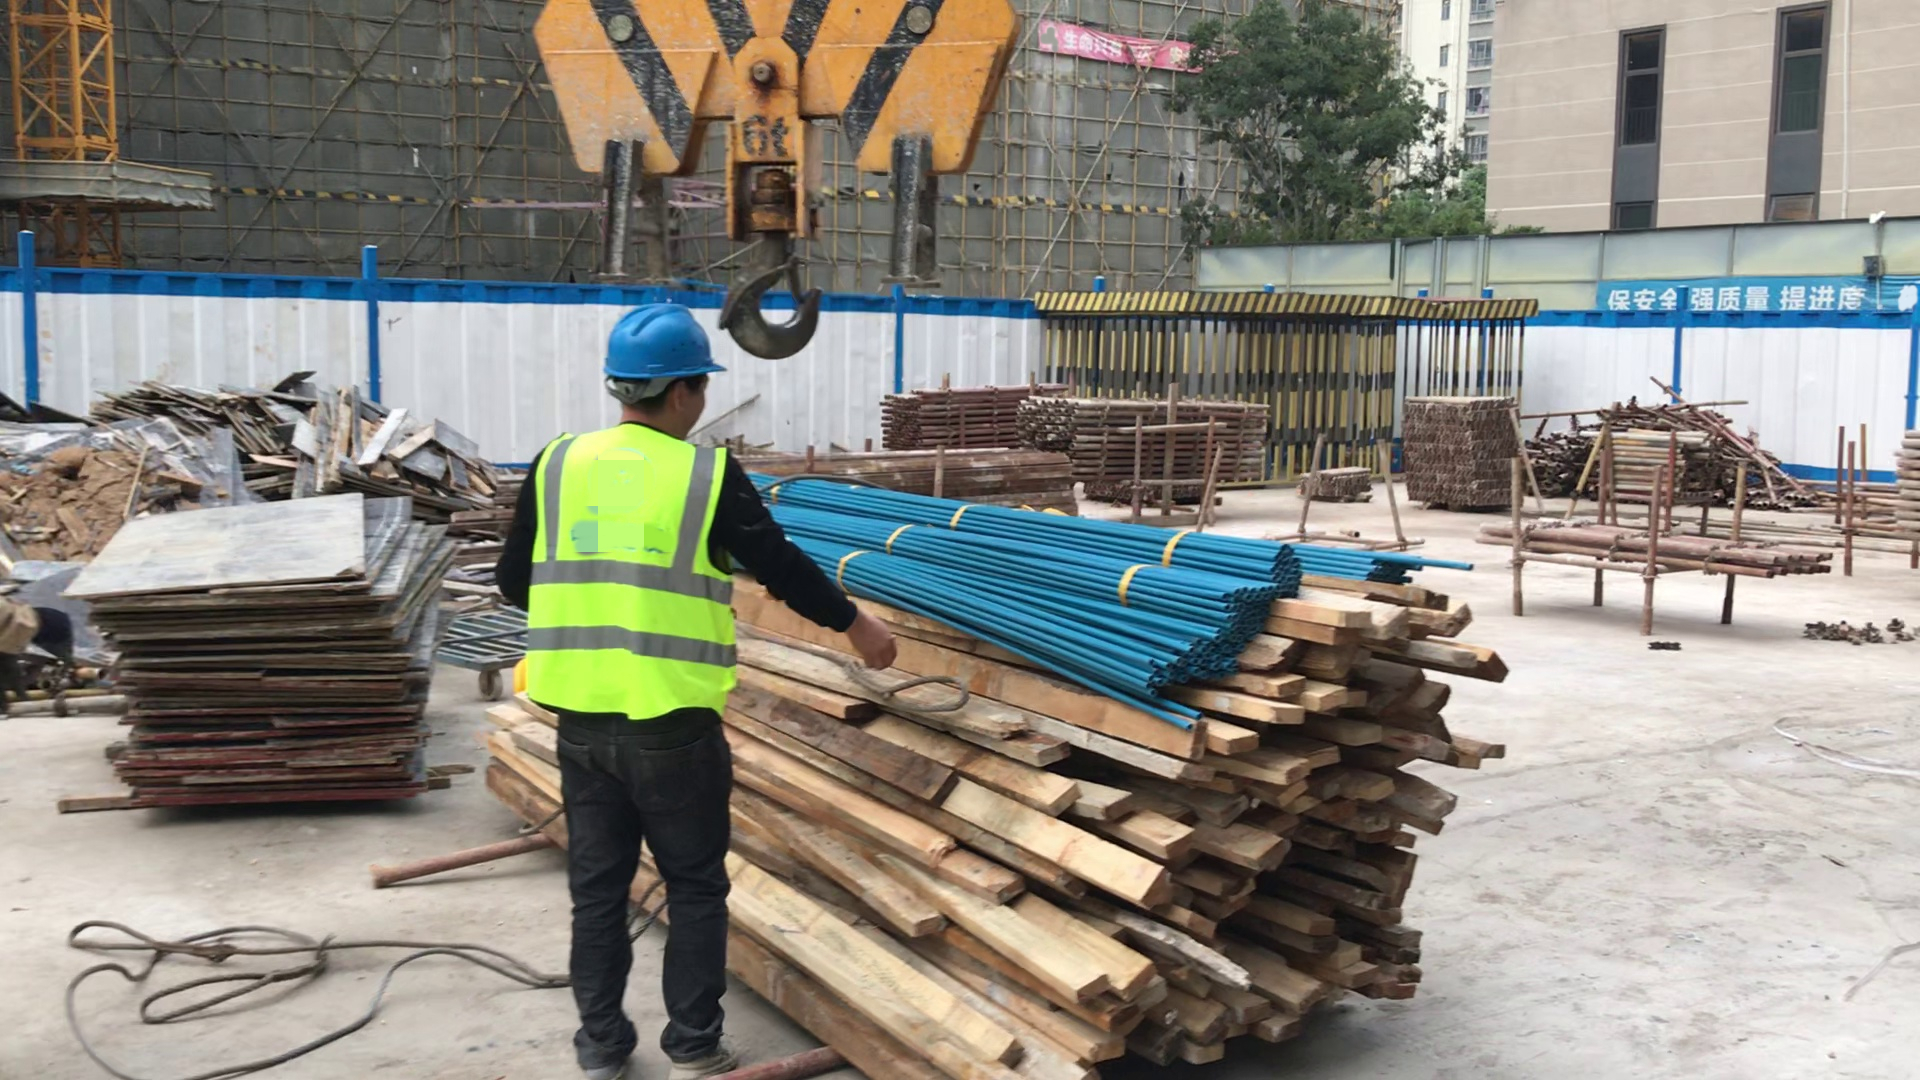board: (2, 326, 506, 707), (56, 485, 492, 815)
helmet: (590, 285, 750, 388)
hook: (490, 1, 1091, 395)
person: (489, 260, 918, 1080)
scaffold: (1502, 469, 1842, 635), (1018, 380, 1304, 512), (1595, 399, 1777, 509), (1872, 408, 1920, 560)
slogan: (1588, 282, 1920, 320), (1034, 20, 1204, 74)
vest: (516, 420, 771, 751)
wood: (441, 447, 1545, 1080)
